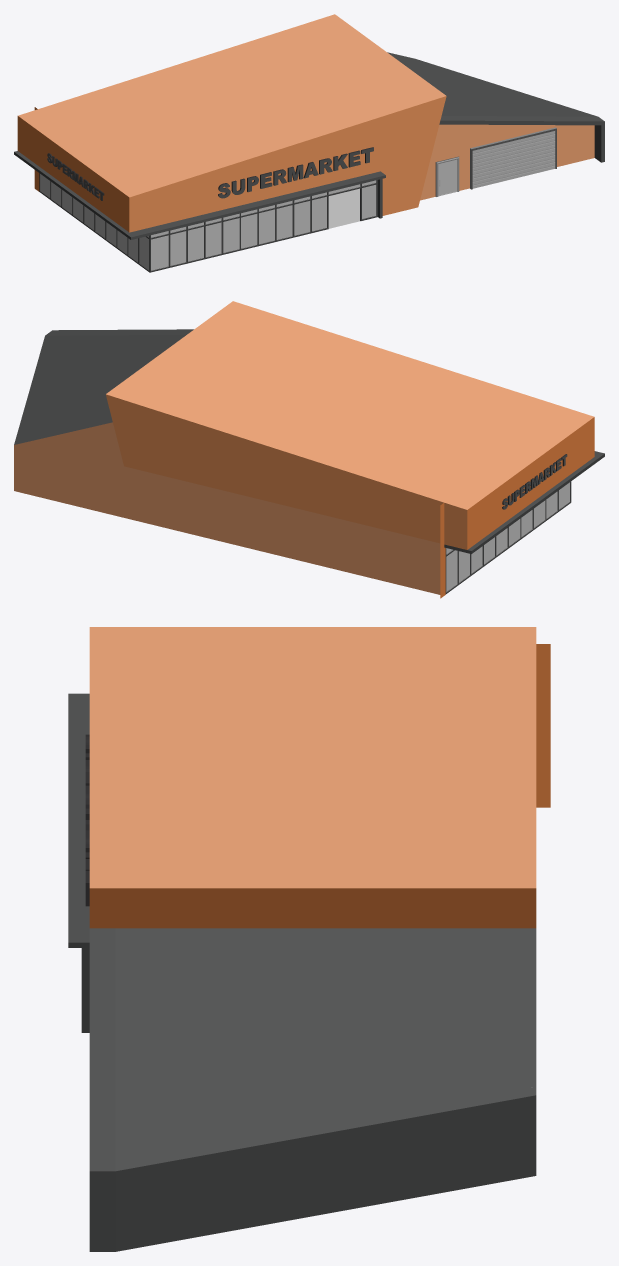
Rendered from Supermaket.fbx.
The picture shows the model from 3 angles, top to bottom: view 1: azimuth 30°, elevation 25°; view 2: azimuth 150°, elevation 25°; view 3: azimuth 270°, elevation 25°; orthographic projection. The views are drawn at different scales.
Visible parts, largest first — view 1: Cube.098, Cube.001, Cube.154; view 2: Cube.098; view 3: Cube.098.
Part boxes in pixels (x1,y1,x2,y2): Cube.098: (14, 14, 604, 272); Cube.001: (328, 188, 360, 228); Cube.154: (438, 159, 457, 196); Cube.098: (14, 301, 604, 598); Cube.098: (68, 627, 550, 1251).
Size of the model in its own units: 40.17 by 8.39 by 17.49.
